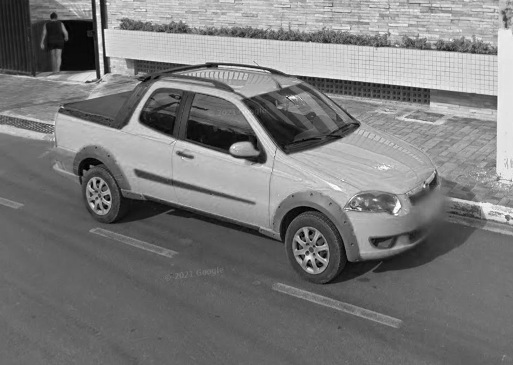car: (51, 60, 445, 286)
